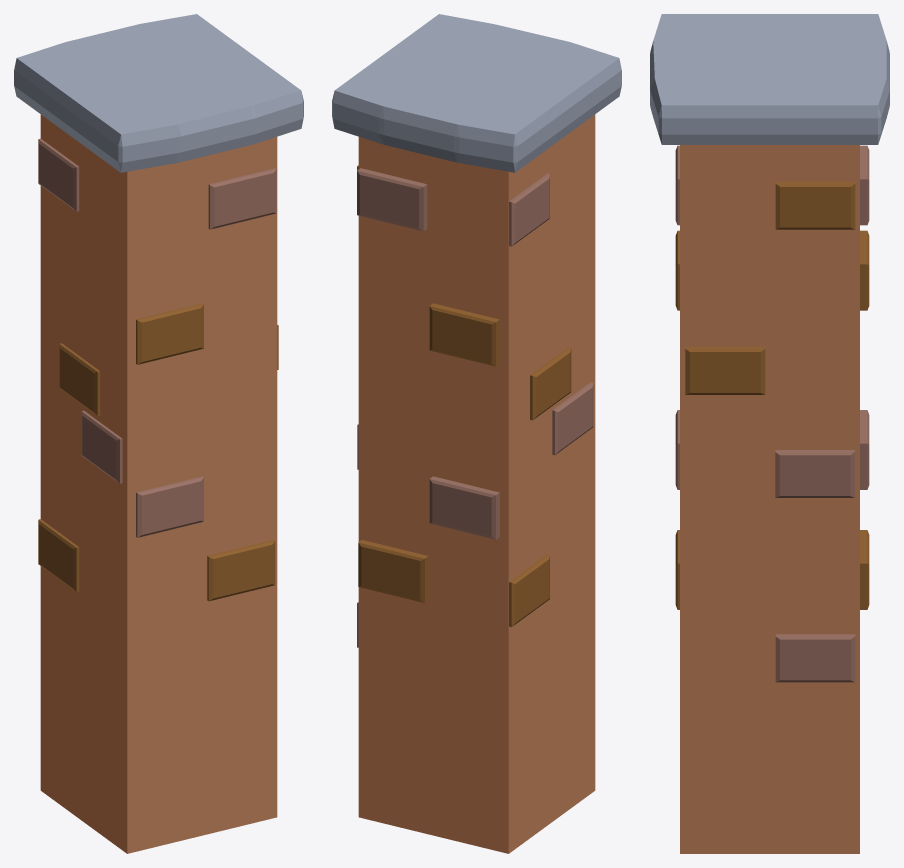
File: Fence_Corner.fbx
3 views of the same model, side by side, from view 1: azimuth 30°, elevation 25°; view 2: azimuth 150°, elevation 25°; view 3: azimuth 270°, elevation 25° (orthographic). The views are drawn at different scales.
Parts seen in each view (by area): view 1: Fence_Corner; view 2: Fence_Corner; view 3: Fence_Corner.
Part boxes in pixels (left/top/right/bottom): Fence_Corner: left=14, top=14, right=303, bottom=853; Fence_Corner: left=332, top=14, right=621, bottom=853; Fence_Corner: left=650, top=14, right=889, bottom=853.
Size of the model in its own units: 92.69 by 348 by 100.
